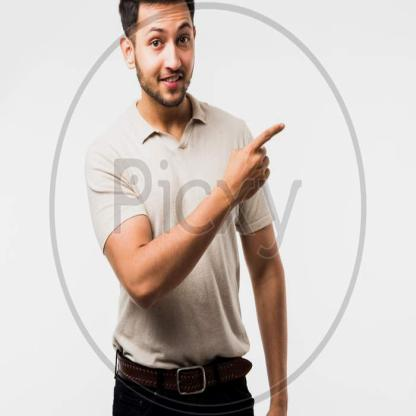Left: (224, 109, 290, 205)
